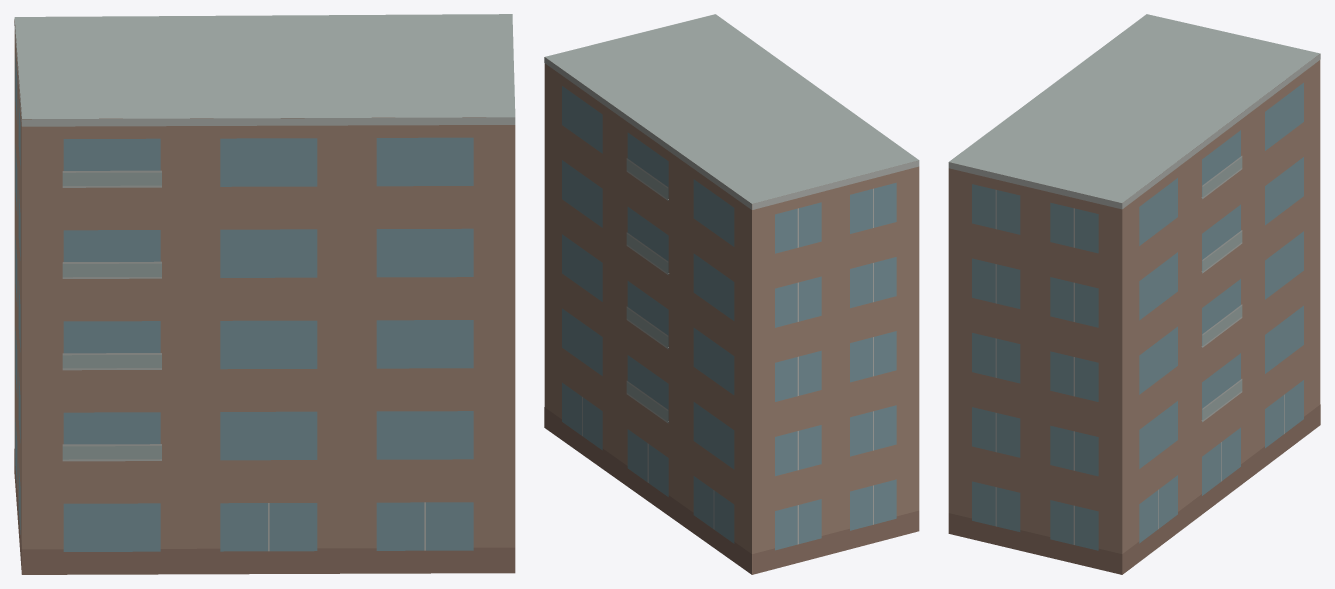
The model's file is survey-upis-32879953.glb.
3 renders of one model, left to right at view 1: azimuth 30°, elevation 25°; view 2: azimuth 150°, elevation 25°; view 3: azimuth 270°, elevation 25°, orthographic. The views are drawn at different scales.
Parts seen in each view (by area): view 1: survey-upis-32879953.tmp; view 2: survey-upis-32879953.tmp; view 3: survey-upis-32879953.tmp.
Part boxes in pixels (<box>): survey-upis-32879953.tmp: <box>14,14,515,574</box>; survey-upis-32879953.tmp: <box>544,14,919,574</box>; survey-upis-32879953.tmp: <box>948,14,1320,574</box>.
Size of the model in its own units: 15.95 by 14.6 by 13.25.
